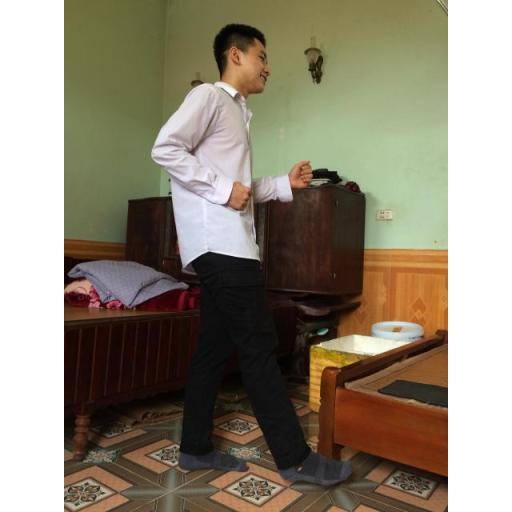Running: (146, 18, 364, 492)
